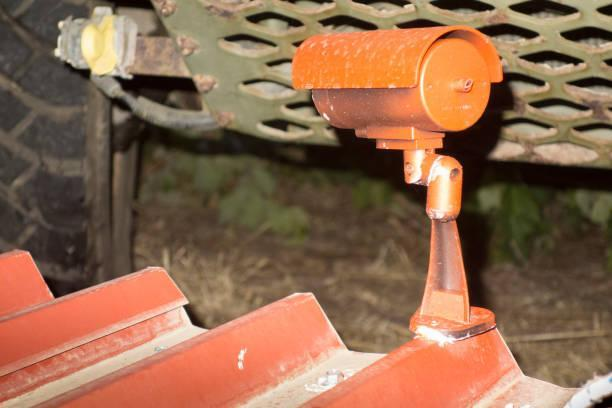camera: (277, 20, 523, 151)
